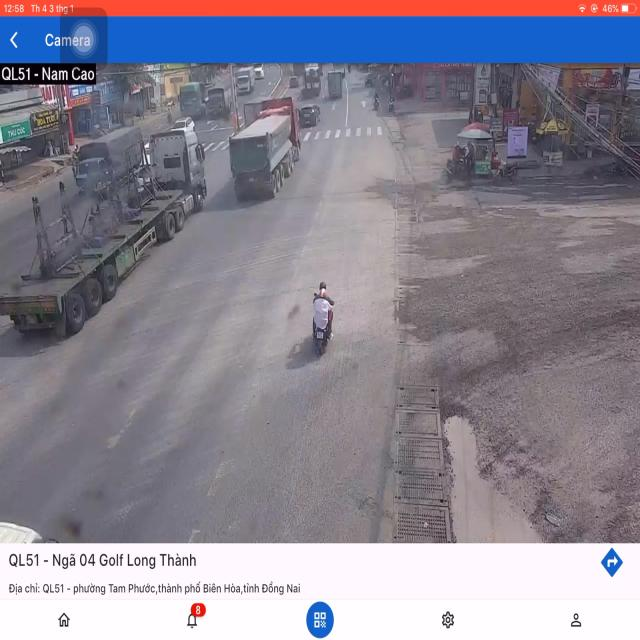motorbike: (310, 282, 334, 358)
truck: (0, 126, 202, 345), (231, 99, 301, 203), (67, 121, 142, 193)
